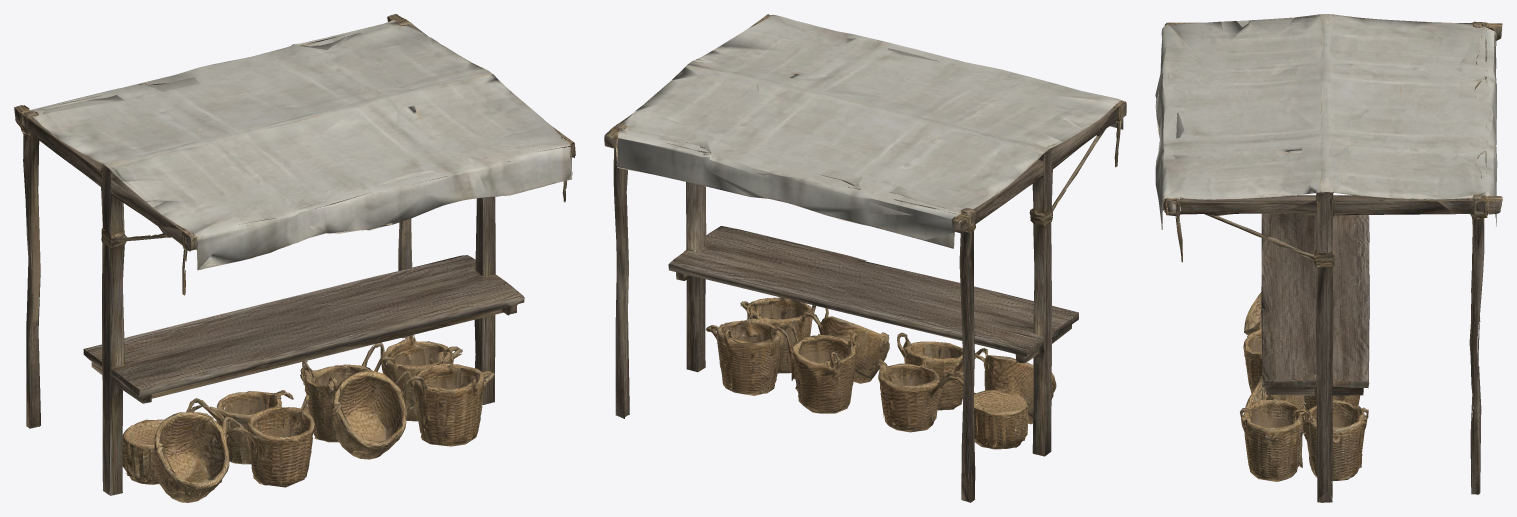
The model's file is market-awning.glb.
3 renders of one model, left to right at view 1: azimuth 30°, elevation 25°; view 2: azimuth 150°, elevation 25°; view 3: azimuth 270°, elevation 25°, orthographic. The views are drawn at different scales.
Visible parts, largest first — view 1: market-awning; view 2: market-awning; view 3: market-awning.
Part boxes in pixels (left/top/right/bottom): market-awning: left=14, top=14, right=575, bottom=502; market-awning: left=604, top=14, right=1126, bottom=502; market-awning: left=1155, top=14, right=1502, bottom=502.
Bounding box in the file's own units: 1.9 × 1.56 × 1.57.
1 material, 1 textured.
